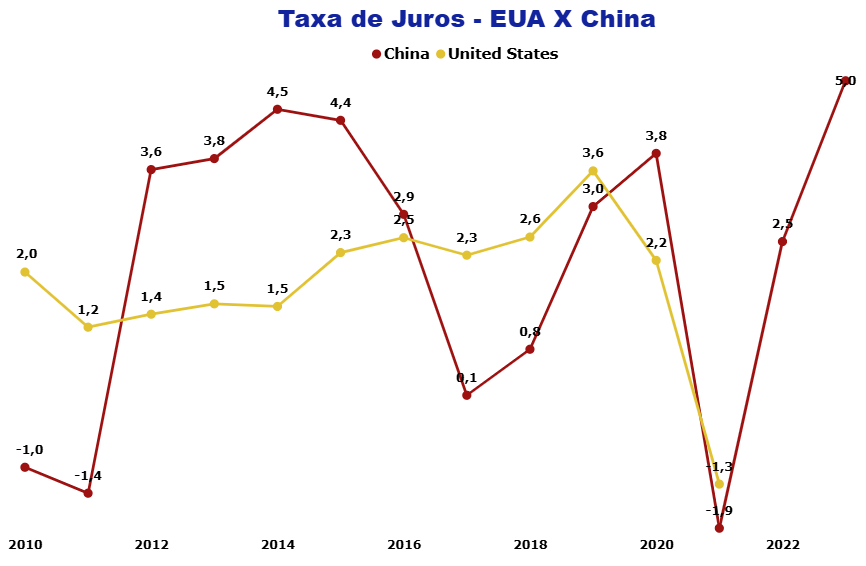

This screenshot's page, from the dashboard's own definition file:
{"tool":"powerbi","page":{"name":"Taxa de Juros - EUA X China","canvas":[1280,720],"ordinal":4},"visuals":[{"type":"lineChart","title":"Taxa de Juros -  EUA X China","fields":{"Category":["indicadores.year"],"Series":["indicadores.country_name"],"Y":["Sum(indicadores.Taxa de Juros Ajustada)"]},"box":[138.6,50.8,1018.2,614.8],"z":0}]}

Visuals, with their boxes on the page's 1280x720 design canvas (x1, y1, x2, y2). These are canvas units, not pixel positions in the 866x566 screenshot, which may show the page scaled, cropped or inside an application window:
"Taxa de Juros -  EUA X China" lineChart: left=139, top=51, right=1157, bottom=666
